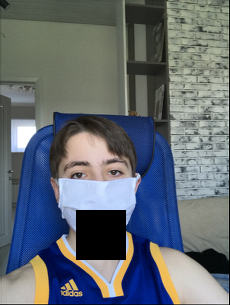with_mask: (56, 155, 137, 252)
